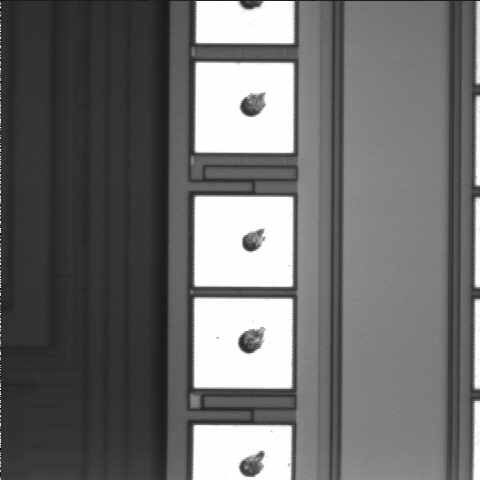pad: (195, 63, 294, 153), (195, 197, 293, 287), (194, 298, 292, 388)
